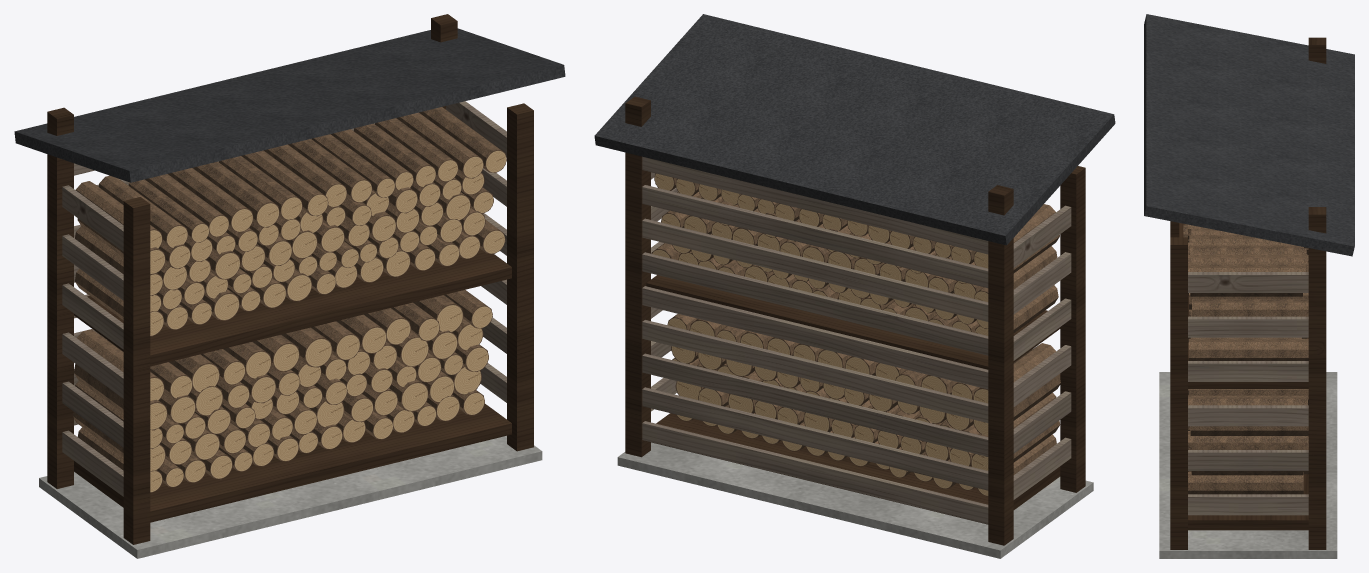
File: firewood-store.glb
3 views of the same model, side by side, from view 1: azimuth 30°, elevation 25°; view 2: azimuth 150°, elevation 25°; view 3: azimuth 270°, elevation 25° (orthographic). The views are drawn at different scales.
Parts seen in each view (by area): view 1: Firewood_Store; view 2: Firewood_Store; view 3: Firewood_Store.
Boxes of the visible parts, x1,y1,x2,y2 form: Firewood_Store: (14, 14, 565, 558); Firewood_Store: (594, 14, 1115, 558); Firewood_Store: (1144, 14, 1354, 558).
Size of the model in its own units: 2.04 by 1.78 by 0.9451.
Materials: 6 (6 with a texture image).
